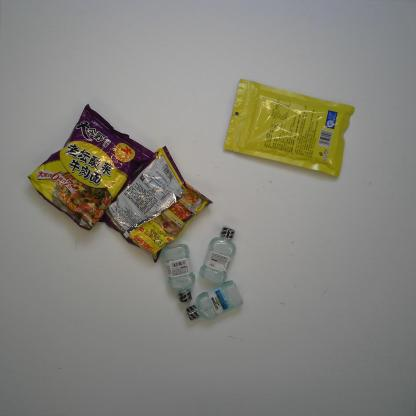Dried Fruit: (223, 79, 355, 178)
Instant Noodles: (25, 102, 155, 232), (98, 144, 214, 265)
Personal Hygiene: (186, 279, 245, 322), (198, 225, 237, 285), (161, 243, 195, 304)
